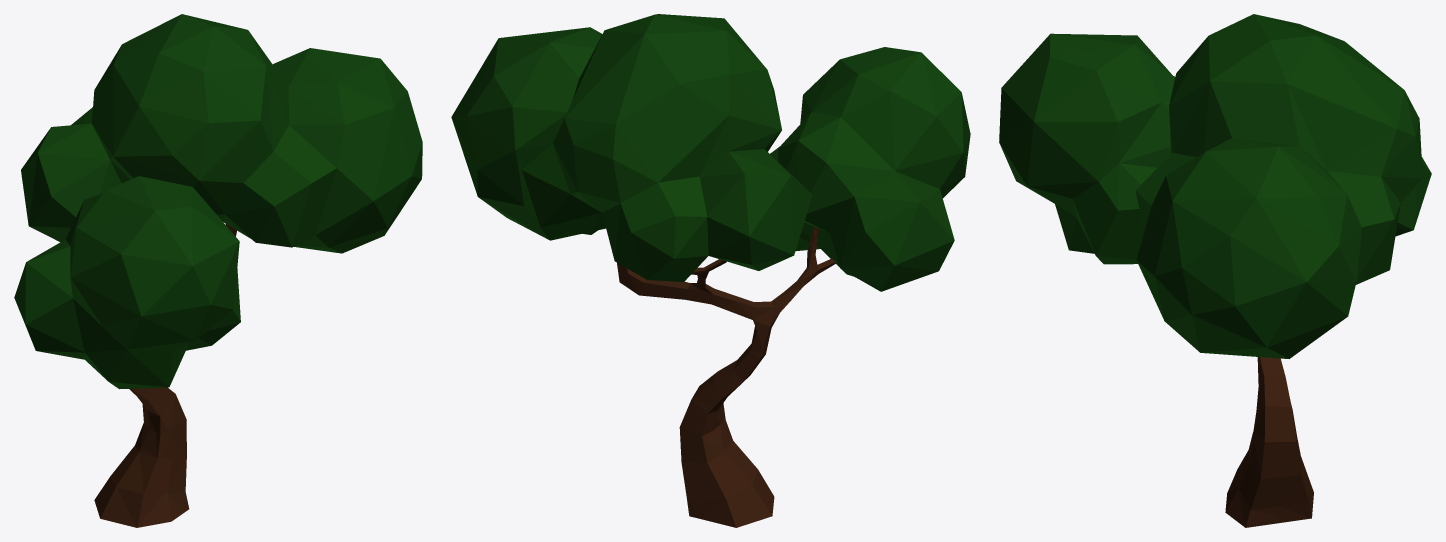
Rendered from Tree7_Destr.FBX.
The picture shows the model from 3 angles, left to right: view 1: azimuth 30°, elevation 25°; view 2: azimuth 150°, elevation 25°; view 3: azimuth 270°, elevation 25°; orthographic projection. The views are drawn at different scales.
Visible parts, largest first — view 1: LowPoly_Tree_07_lowpoly_tree_04_Plane_012_Part_8, LowPoly_Tree_07_lowpoly_tree_04_Plane_012_Part_9, LowPoly_Tree_07_lowpoly_tree_04_Plane_012_Part_18, LowPoly_Tree_07_lowpoly_tree_04_Plane_012_Part_7, LowPoly_Tree_07_lowpoly_tree_04_Plane_012_Part_6, LowPoly_Tree_07_lowpoly_tree_04_Plane_012_Part_5, LowPoly_Tree_07_lowpoly_tree_04_Plane_012_Part_16, LowPoly_Tree_07_lowpoly_tree_04_Plane_012_Part_15_Part_3, LowPoly_Tree_07_lowpoly_tree_04_Plane_012_Part_17, LowPoly_Tree_07_lowpoly_tree_04_Plane_012_Part_4, LowPoly_Tree_07_lowpoly_tree_04_Plane_012_Part_3, LowPoly_Tree_07_lowpoly_tree_04_Plane_012_Part_1 (+10 smaller); view 2: LowPoly_Tree_07_lowpoly_tree_04_Plane_012_Part_19, LowPoly_Tree_07_lowpoly_tree_04_Plane_012_Part_7, LowPoly_Tree_07_lowpoly_tree_04_Plane_012_Part_5, LowPoly_Tree_07_lowpoly_tree_04_Plane_012_Part_12, LowPoly_Tree_07_lowpoly_tree_04_Plane_012_Part_8, LowPoly_Tree_07_lowpoly_tree_04_Plane_012_Part_6, LowPoly_Tree_07_lowpoly_tree_04_Plane_012_Part_18, LowPoly_Tree_07_lowpoly_tree_04_Plane_012_Part_15_Part_6, LowPoly_Tree_07_lowpoly_tree_04_Plane_012_Part_15_Part_1, LowPoly_Tree_07_lowpoly_tree_04_Plane_012_Part_15_Part_3, LowPoly_Tree_07_lowpoly_tree_04_Plane_012_Part_3, LowPoly_Tree_07_lowpoly_tree_04_Plane_012_Part_15_Part_4 (+8 smaller); view 3: LowPoly_Tree_07_lowpoly_tree_04_Plane_012_Part_6, LowPoly_Tree_07_lowpoly_tree_04_Plane_012_Part_10, LowPoly_Tree_07_lowpoly_tree_04_Plane_012_Part_17, LowPoly_Tree_07_lowpoly_tree_04_Plane_012_Part_7, LowPoly_Tree_07_lowpoly_tree_04_Plane_012_Part_11, LowPoly_Tree_07_lowpoly_tree_04_Plane_012_Part_12, LowPoly_Tree_07_lowpoly_tree_04_Plane_012_Part_19, LowPoly_Tree_07_lowpoly_tree_04_Plane_012_Part_13, LowPoly_Tree_07_lowpoly_tree_04_Plane_012_Part_9, LowPoly_Tree_07_lowpoly_tree_04_Plane_012_Part_15_Part_7, LowPoly_Tree_07_lowpoly_tree_04_Plane_012_Part_18, LowPoly_Tree_07_lowpoly_tree_04_Plane_012_Part_15_Part_1 (+6 smaller).
Part boxes in pixels (x1,y1,x2,y2): LowPoly_Tree_07_lowpoly_tree_04_Plane_012_Part_8: (25,68,264,210); LowPoly_Tree_07_lowpoly_tree_04_Plane_012_Part_9: (262,96,412,222); LowPoly_Tree_07_lowpoly_tree_04_Plane_012_Part_18: (90,176,205,317); LowPoly_Tree_07_lowpoly_tree_04_Plane_012_Part_7: (93,14,256,111); LowPoly_Tree_07_lowpoly_tree_04_Plane_012_Part_6: (250,40,399,124); LowPoly_Tree_07_lowpoly_tree_04_Plane_012_Part_5: (23,194,110,347); LowPoly_Tree_07_lowpoly_tree_04_Plane_012_Part_16: (99,300,212,387); LowPoly_Tree_07_lowpoly_tree_04_Plane_012_Part_15_Part_3: (100,387,165,527); LowPoly_Tree_07_lowpoly_tree_04_Plane_012_Part_17: (163,181,239,325); LowPoly_Tree_07_lowpoly_tree_04_Plane_012_Part_4: (252,178,353,247); LowPoly_Tree_07_lowpoly_tree_04_Plane_012_Part_3: (14,270,116,384); LowPoly_Tree_07_lowpoly_tree_04_Plane_012_Part_1: (208,157,268,239); LowPoly_Tree_07_lowpoly_tree_04_Plane_012_Part_19: (536,91,768,281); LowPoly_Tree_07_lowpoly_tree_04_Plane_012_Part_7: (577,14,748,136); LowPoly_Tree_07_lowpoly_tree_04_Plane_012_Part_5: (840,92,967,221); LowPoly_Tree_07_lowpoly_tree_04_Plane_012_Part_12: (462,53,561,230); LowPoly_Tree_07_lowpoly_tree_04_Plane_012_Part_8: (716,17,834,237); LowPoly_Tree_07_lowpoly_tree_04_Plane_012_Part_6: (493,14,665,119); LowPoly_Tree_07_lowpoly_tree_04_Plane_012_Part_18: (844,47,970,141); LowPoly_Tree_07_lowpoly_tree_04_Plane_012_Part_15_Part_6: (744,209,906,268); LowPoly_Tree_07_lowpoly_tree_04_Plane_012_Part_15_Part_1: (679,387,731,518); LowPoly_Tree_07_lowpoly_tree_04_Plane_012_Part_15_Part_3: (707,341,774,516); LowPoly_Tree_07_lowpoly_tree_04_Plane_012_Part_3: (879,215,954,291); LowPoly_Tree_07_lowpoly_tree_04_Plane_012_Part_15_Part_4: (723,232,881,350); LowPoly_Tree_07_lowpoly_tree_04_Plane_012_Part_6: (1182,71,1335,214); LowPoly_Tree_07_lowpoly_tree_04_Plane_012_Part_10: (1155,202,1286,353); LowPoly_Tree_07_lowpoly_tree_04_Plane_012_Part_17: (999,56,1134,211); LowPoly_Tree_07_lowpoly_tree_04_Plane_012_Part_7: (1206,14,1403,123); LowPoly_Tree_07_lowpoly_tree_04_Plane_012_Part_11: (1076,55,1175,263); LowPoly_Tree_07_lowpoly_tree_04_Plane_012_Part_12: (1275,174,1396,292); LowPoly_Tree_07_lowpoly_tree_04_Plane_012_Part_19: (1322,90,1431,252); LowPoly_Tree_07_lowpoly_tree_04_Plane_012_Part_13: (1254,233,1353,349); LowPoly_Tree_07_lowpoly_tree_04_Plane_012_Part_9: (1135,95,1202,286); LowPoly_Tree_07_lowpoly_tree_04_Plane_012_Part_15_Part_7: (1238,385,1287,516); LowPoly_Tree_07_lowpoly_tree_04_Plane_012_Part_18: (1000,33,1150,120); LowPoly_Tree_07_lowpoly_tree_04_Plane_012_Part_15_Part_1: (1277,385,1312,522).
Size of the model in its own units: 10.57 by 10.92 by 8.45.
